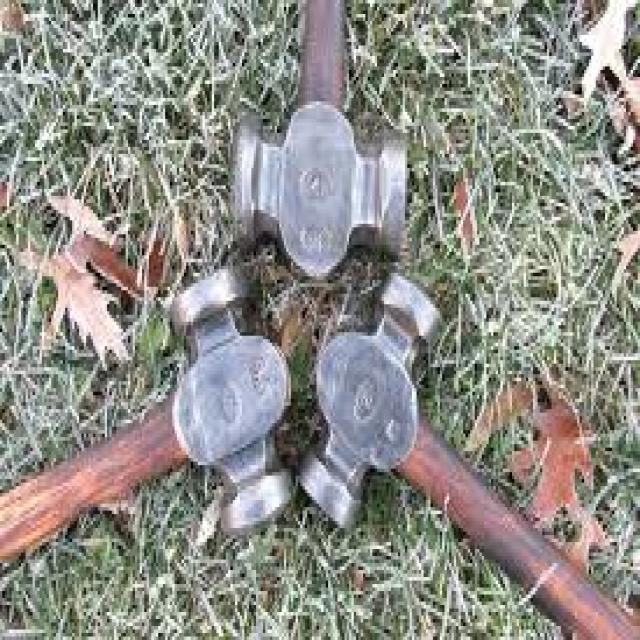hammer: (293, 262, 640, 640), (0, 257, 296, 565), (228, 0, 414, 280)
